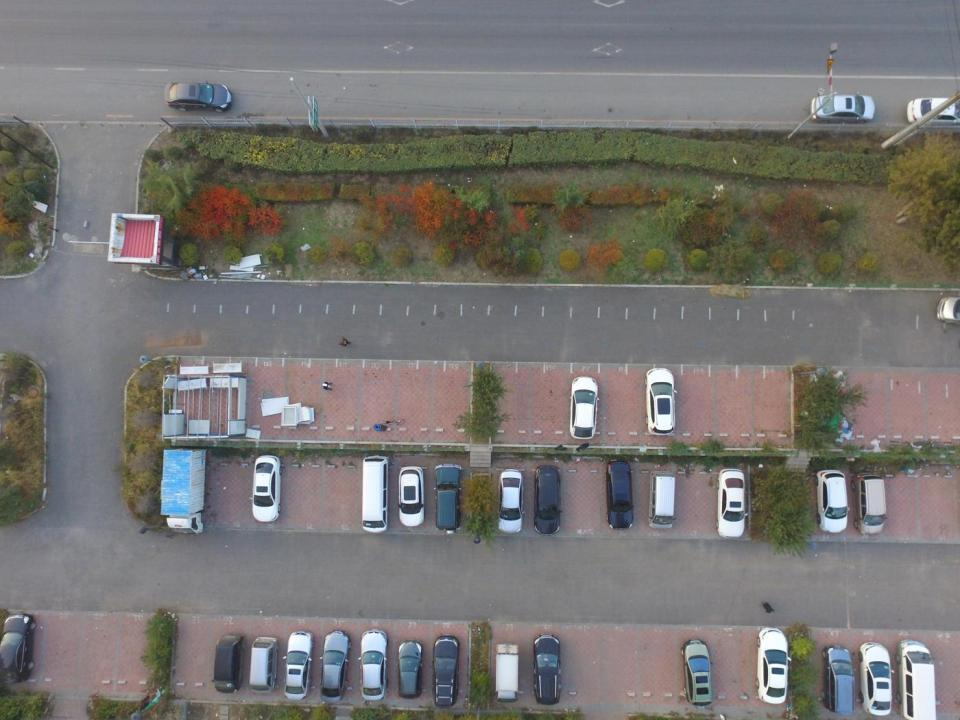car: (756, 627, 791, 705), (0, 613, 36, 684), (859, 643, 894, 715), (814, 470, 850, 534), (716, 468, 748, 538), (319, 631, 350, 703), (164, 80, 232, 112), (283, 630, 314, 700), (249, 455, 281, 522), (358, 630, 387, 700), (810, 92, 875, 123), (533, 466, 562, 535), (605, 461, 634, 529), (496, 469, 526, 534), (570, 377, 599, 438), (907, 98, 960, 128), (398, 466, 424, 526), (396, 640, 422, 699)
truck: (160, 449, 206, 535), (495, 644, 519, 702)
van: (895, 640, 936, 719), (821, 645, 856, 715), (850, 472, 888, 533), (681, 638, 713, 706), (431, 634, 460, 708), (644, 368, 676, 434), (361, 456, 388, 533), (434, 463, 462, 534), (213, 634, 246, 692), (534, 634, 560, 705), (648, 471, 676, 529), (250, 637, 278, 692), (936, 296, 960, 323)
